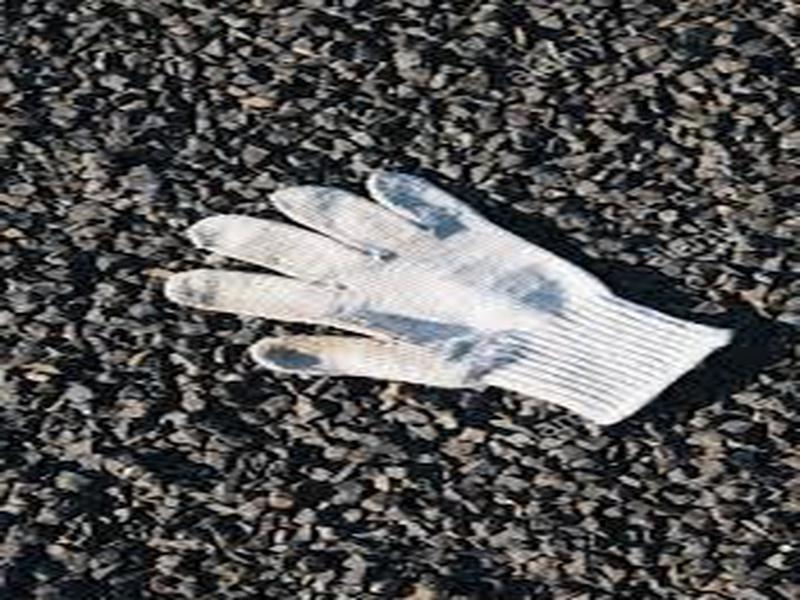gloves: (156, 158, 741, 434)
